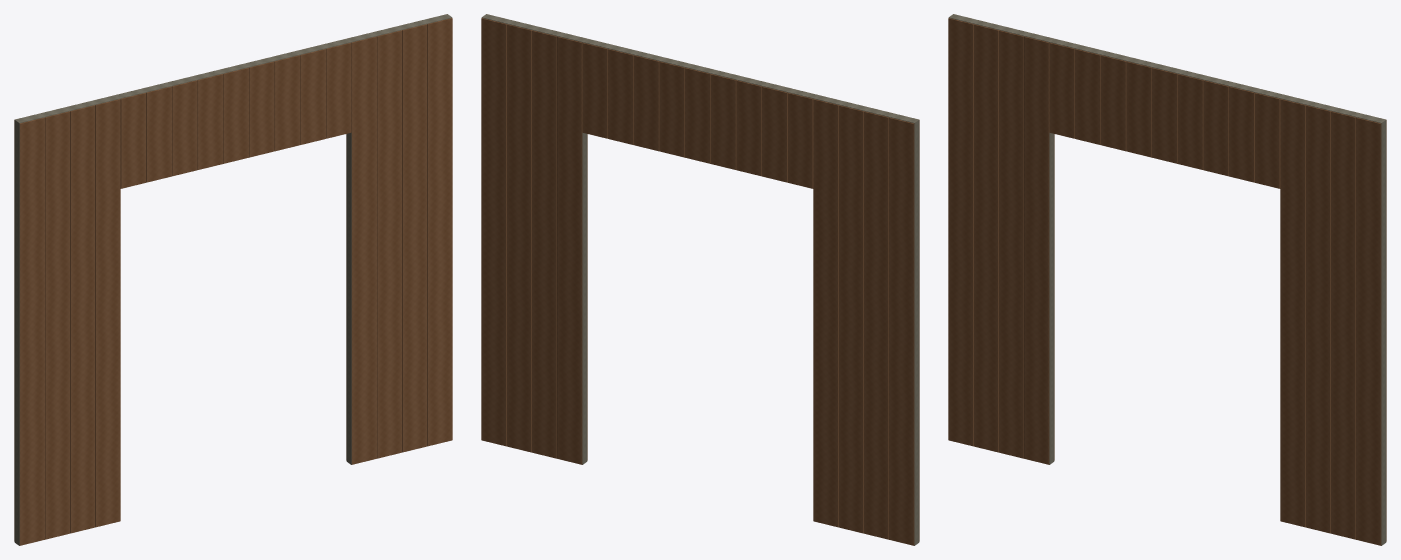
File: MRP_WallDoubleDoor_Wood_3m.fbx
The picture shows the model from 3 angles, left to right: view 1: azimuth 30°, elevation 25°; view 2: azimuth 150°, elevation 25°; view 3: azimuth 330°, elevation 25°; orthographic projection.
Visible parts, largest first — view 1: Body; view 2: Body; view 3: Body.
Part boxes in pixels (x1=…): Body: x1=14, y1=14, x2=452, y2=545; Body: x1=481, y1=14, x2=919, y2=545; Body: x1=948, y1=14, x2=1386, y2=545.
Bounding box in the file's own units: 3 × 2.8 × 0.07.
